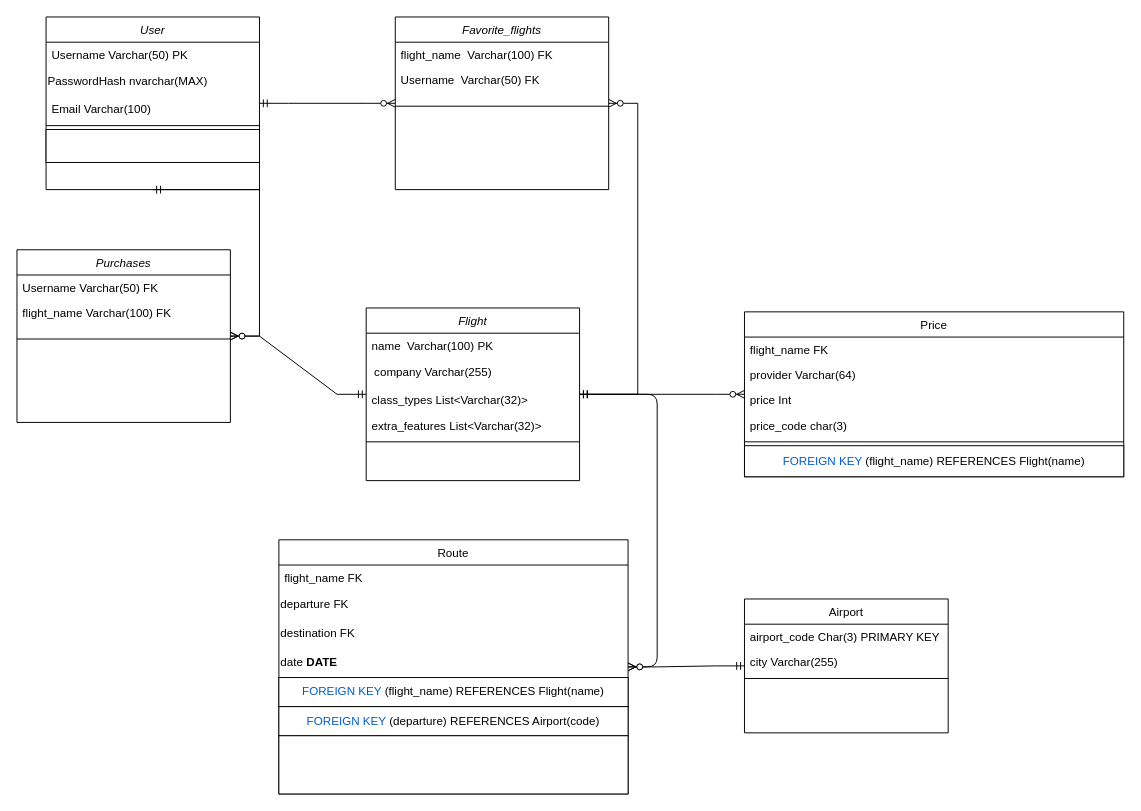
The diagram is 1141 pixels wide and 811 high, and some of its shapes have lost their labels. The shapes that lost their labels are listed below. From the top down, each one's centre as x and y in pixels, then its label:
the point at 152,145: Role Varchar(50)
the point at 453,764: FOREIGN KEY (destination) REFERENCES Airport(code)
